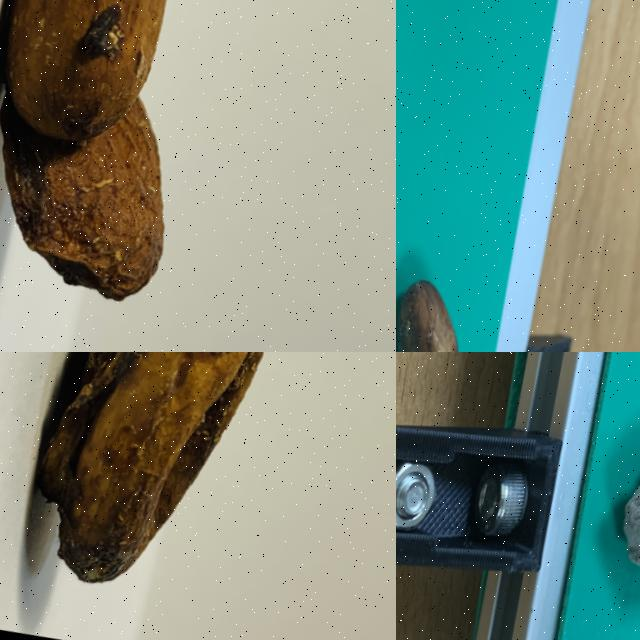Agglomerated_cocoabeans: (0, 0, 306, 351), (0, 352, 358, 639), (565, 398, 639, 639)
Fine_cocoabeans: (396, 181, 534, 351)
